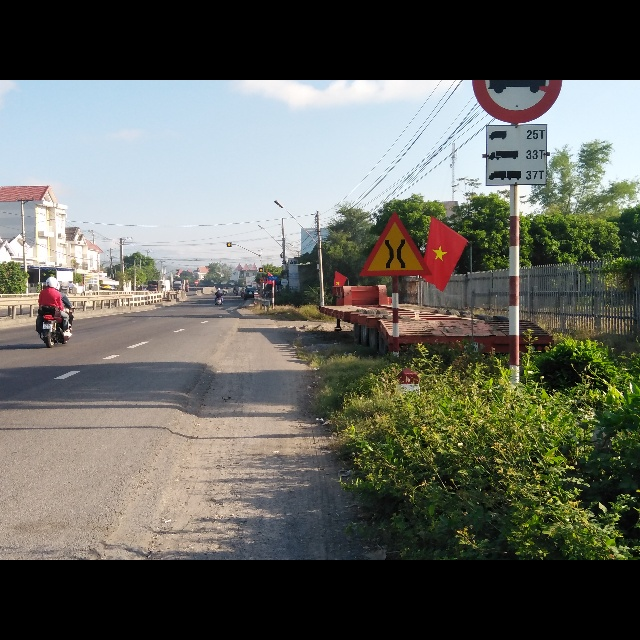Cầu hẹp: (358, 208, 426, 278)
